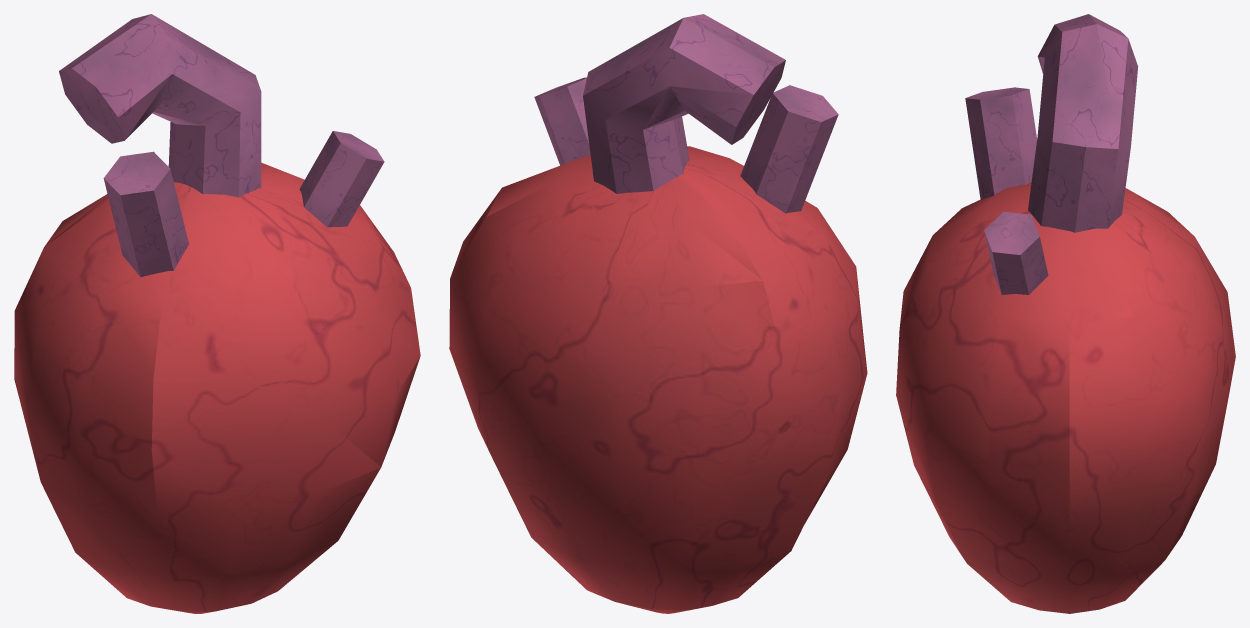
The model's file is heart.glb.
3 renders of one model, left to right at view 1: azimuth 30°, elevation 25°; view 2: azimuth 150°, elevation 25°; view 3: azimuth 270°, elevation 25°, orthographic. The views are drawn at different scales.
Visible parts, largest first — view 1: OUT; view 2: OUT; view 3: OUT.
Boxes of the visible parts, x1,y1,x2,y2 form: OUT: (14, 14, 420, 613); OUT: (449, 14, 867, 613); OUT: (896, 14, 1235, 613).
Size of the model in its own units: 0.1132 by 0.1727 by 0.0939.
Materials: 2 (2 with a texture image).
